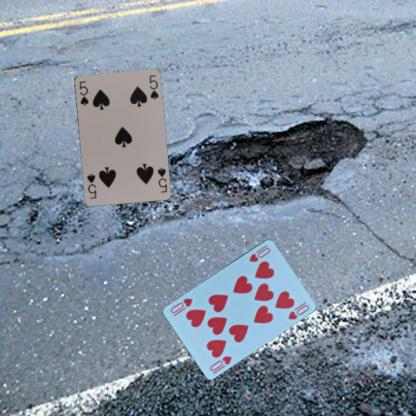10h: (207, 353, 233, 372), (247, 244, 272, 263)
5s: (155, 165, 168, 194), (77, 78, 89, 107)
